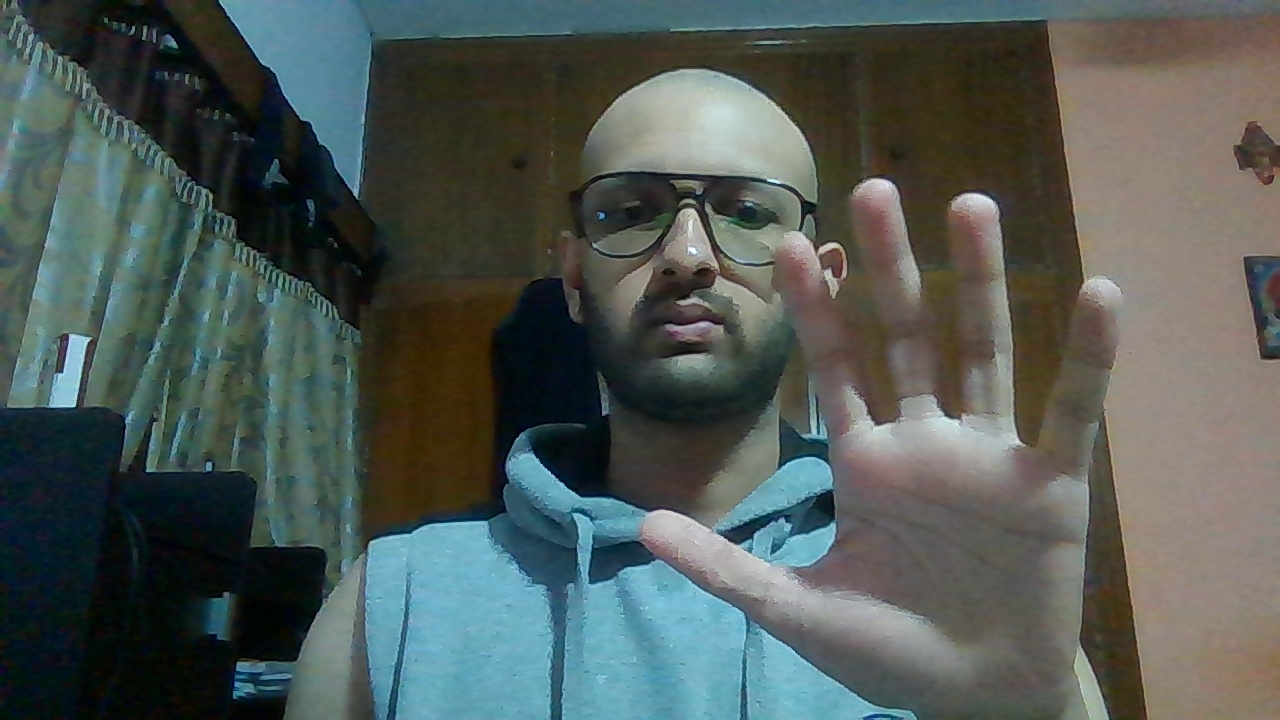Hello: (637, 174, 1129, 710)
